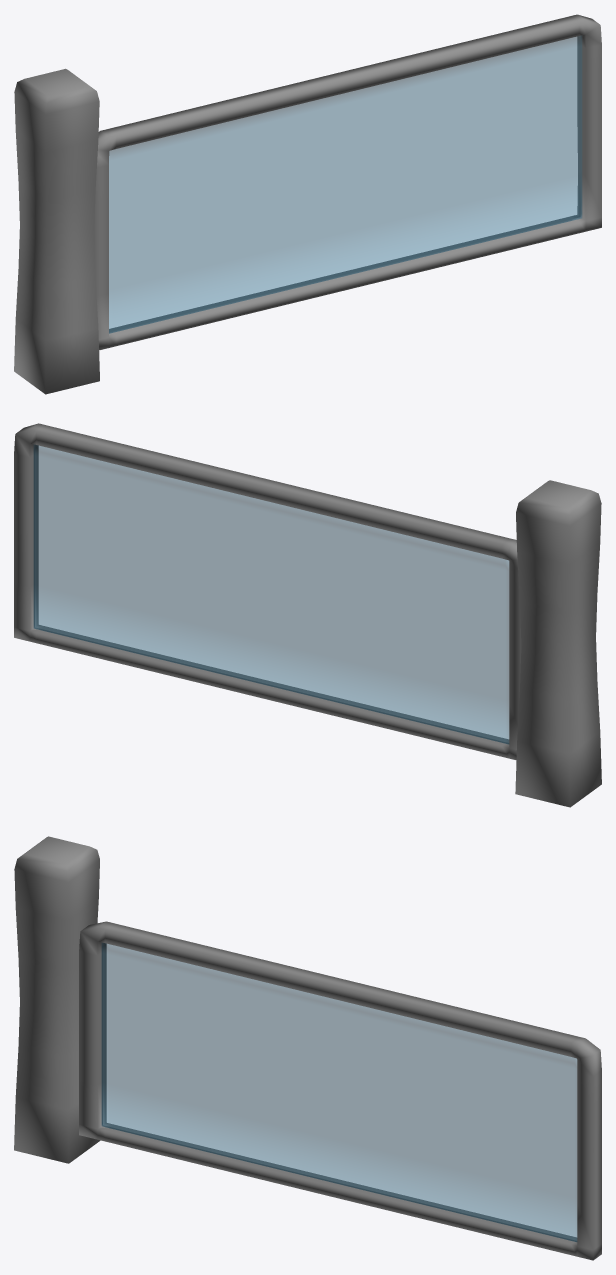
The model's file is GlassHalfWall_Straight_Border.glb.
The picture shows the model from 3 angles, top to bottom: view 1: azimuth 30°, elevation 25°; view 2: azimuth 150°, elevation 25°; view 3: azimuth 330°, elevation 25°; orthographic projection.
Visible parts, largest first — view 1: 6-StraightGlassBorder, 3-PostNARROWER; view 2: 6-StraightGlassBorder, 3-PostNARROWER; view 3: 6-StraightGlassBorder, 3-PostNARROWER.
Part boxes in pixels (box(x1,y1,x2,y2)): 6-StraightGlassBorder: box(94, 14, 601, 350); 3-PostNARROWER: box(14, 68, 99, 394); 6-StraightGlassBorder: box(14, 423, 521, 760); 3-PostNARROWER: box(515, 480, 601, 807); 6-StraightGlassBorder: box(79, 921, 601, 1260); 3-PostNARROWER: box(14, 836, 100, 1163).
Bounding box in the file's own units: 2 × 0.9929 × 0.1932.
3 materials, 3 textured.
